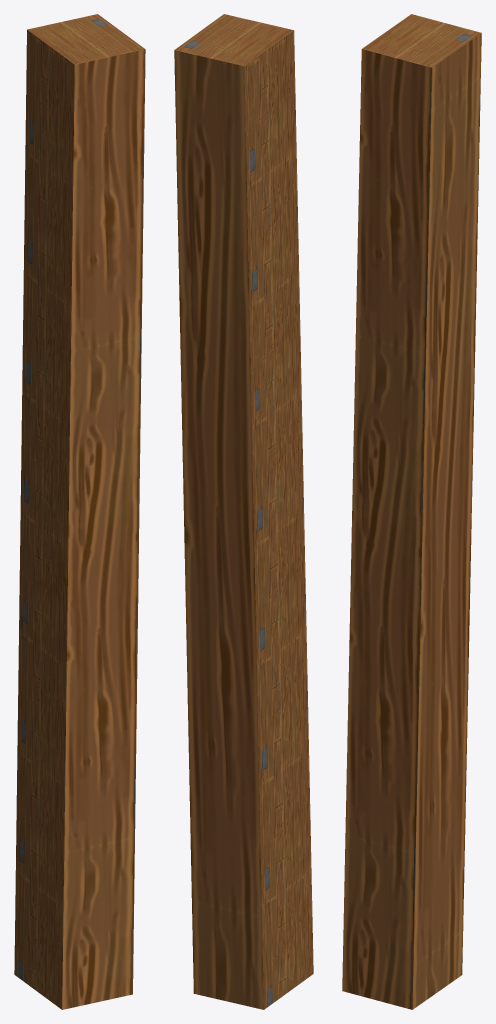
3 views of the same model, side by side, from view 1: azimuth 30°, elevation 25°; view 2: azimuth 150°, elevation 25°; view 3: azimuth 330°, elevation 25° (orthographic).
Parts seen in each view (by area): view 1: Cube.501; view 2: Cube.501; view 3: Cube.501.
Part boxes in pixels (x1,y1,x2,y2): Cube.501: (14,14,145,1009); Cube.501: (174,14,313,1009); Cube.501: (342,14,481,1009).
Bounding box in the file's own units: 56.82 × 586 × 59.22.
Materials: 1 (1 with a texture image).
